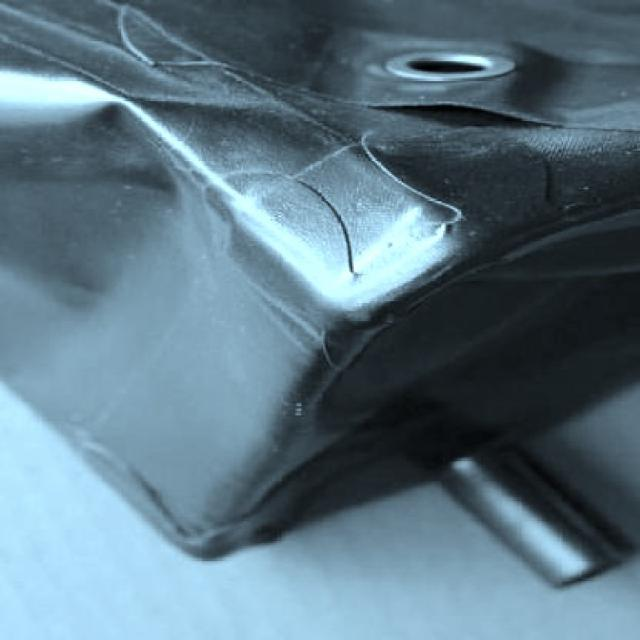crack: (289, 186, 380, 292), (361, 101, 591, 129)
dent: (5, 72, 237, 456), (502, 29, 640, 126)
